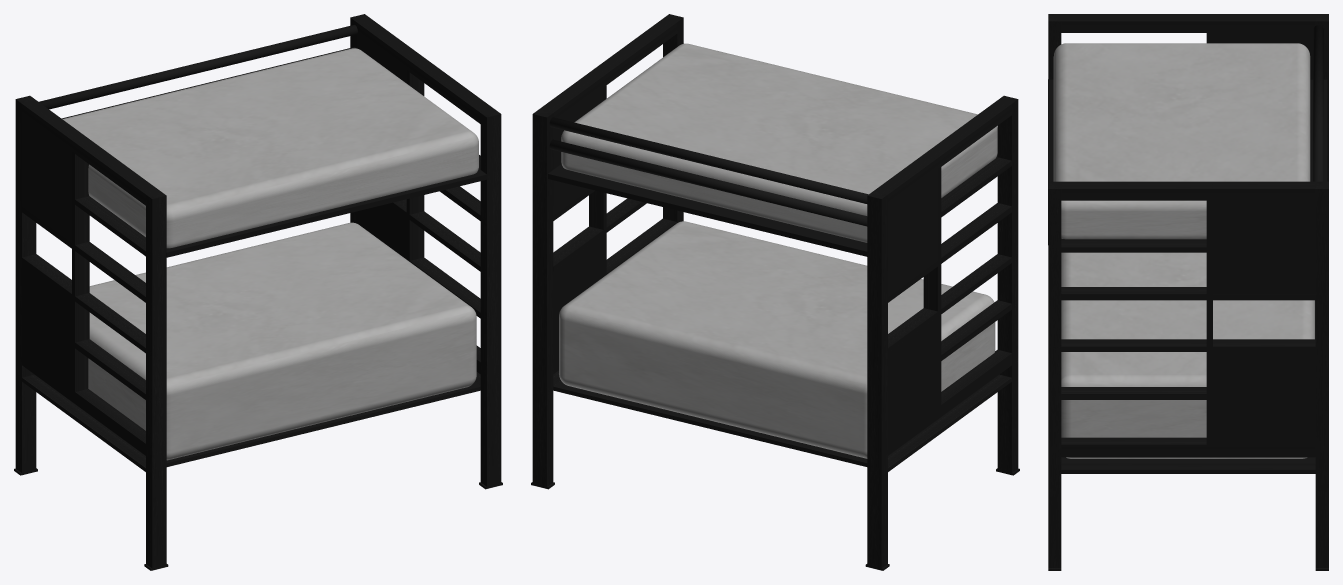
Rendered from litera.gltf.
3 views of the same model, side by side, from view 1: azimuth 30°, elevation 25°; view 2: azimuth 150°, elevation 25°; view 3: azimuth 270°, elevation 25° (orthographic). The views are drawn at different scales.
Parts seen in each view (by area): view 1: Circle.009, Cube.043, Cube.044; view 2: Circle.009, Cube.043, Cube.044; view 3: Circle.009, Cube.044, Cube.043.
Boxes of the visible parts, x1=… form: Circle.009: x1=14, y1=14, x2=502, y2=570; Cube.043: x1=88, y1=222, x2=476, y2=460; Cube.044: x1=62, y1=48, x2=478, y2=248; Circle.009: x1=531, y1=14, x2=1019, y2=570; Cube.043: x1=559, y1=221, x2=995, y2=458; Cube.044: x1=561, y1=43, x2=997, y2=242; Circle.009: x1=1048, y1=14, x2=1328, y2=570; Cube.044: x1=1053, y1=43, x2=1310, y2=239; Cube.043: x1=1061, y1=252, x2=1314, y2=458.
Bounding box in the file's own units: 9.13 × 9.21 × 6.14.
3 materials, 3 textured.
